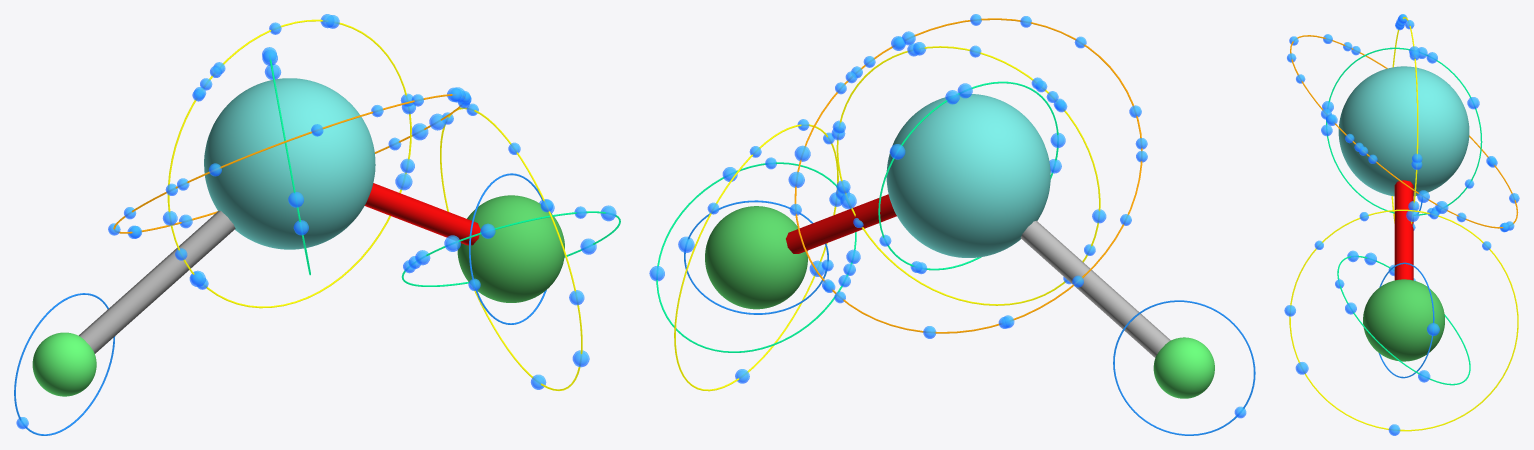
Rendered from HTeCl.glb.
3 views of the same model, side by side, from view 1: azimuth 30°, elevation 25°; view 2: azimuth 150°, elevation 25°; view 3: azimuth 270°, elevation 25° (orthographic). The views are drawn at different scales.
Visible parts, largest first — view 1: Te, Cl, object 153, H, object 152, object 28, object 137, object 65, object 2, object 120, object 115; view 2: Te, Cl, object 153, H, object 152, object 65, object 28, object 137, object 120, object 2, object 11, object 115; view 3: Te, Cl, object 152, object 137, object 11, object 65, object 120, object 28, object 115.
Part boxes in pixels (x1,y1,x2,y2): Te: (204, 78, 375, 249); Cl: (457, 195, 564, 302); object 153: (78, 210, 235, 353); H: (32, 332, 96, 396); object 152: (364, 183, 480, 245); object 28: (167, 19, 411, 308); object 137: (440, 107, 582, 390); object 65: (113, 94, 460, 233); object 2: (14, 293, 115, 435); object 120: (401, 211, 620, 286); object 115: (469, 173, 546, 324); Te: (886, 94, 1050, 257); Cl: (705, 206, 807, 309); object 153: (1020, 220, 1170, 357); H: (1153, 337, 1214, 398); object 152: (786, 194, 896, 253); object 65: (794, 18, 1142, 333); object 28: (836, 46, 1100, 305); object 137: (674, 124, 838, 391); object 120: (656, 162, 856, 352); object 2: (1113, 300, 1255, 435); object 11: (878, 81, 1058, 270); object 115: (684, 200, 828, 314); Te: (1338, 66, 1469, 196); Cl: (1363, 279, 1444, 361); object 152: (1394, 180, 1413, 280); object 137: (1289, 209, 1518, 431); object 11: (1326, 47, 1482, 215); object 65: (1290, 35, 1518, 228); object 120: (1337, 255, 1470, 385); object 28: (1391, 17, 1418, 223); object 115: (1378, 262, 1434, 378).
Size of the model in its own units: 11.22 by 7.44 by 4.94.
